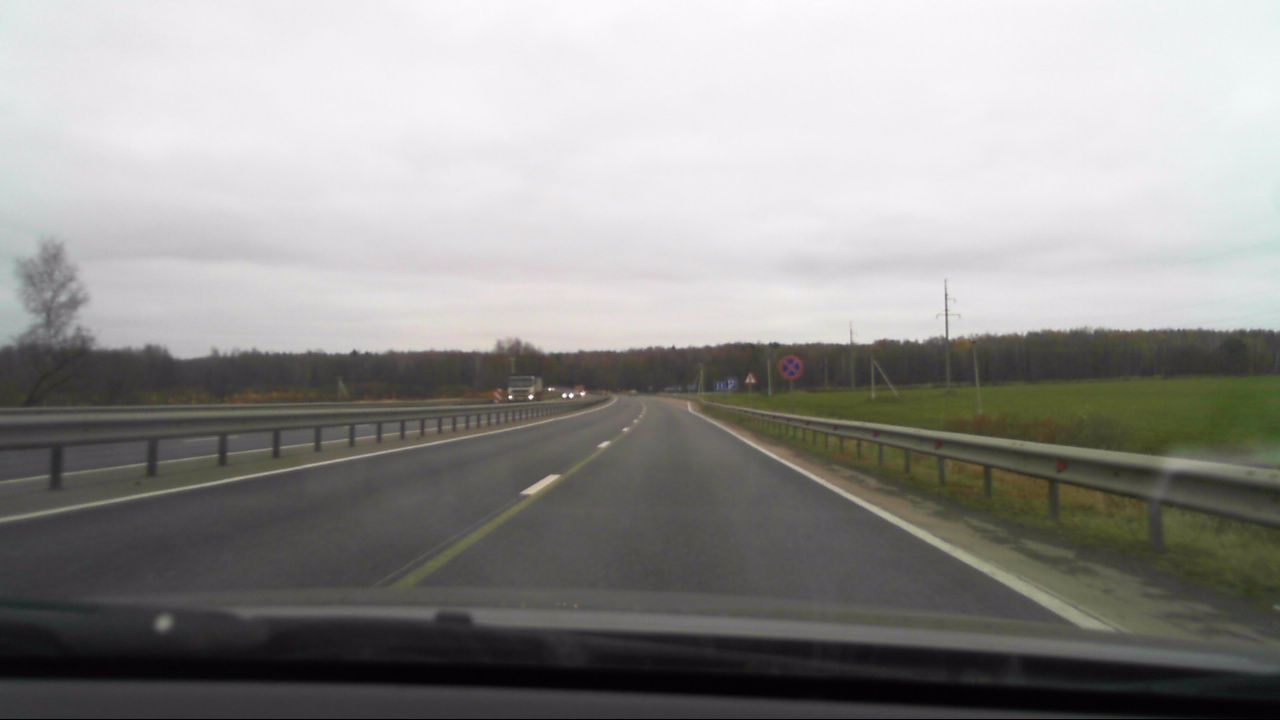No Parking: (779, 355, 802, 377)
